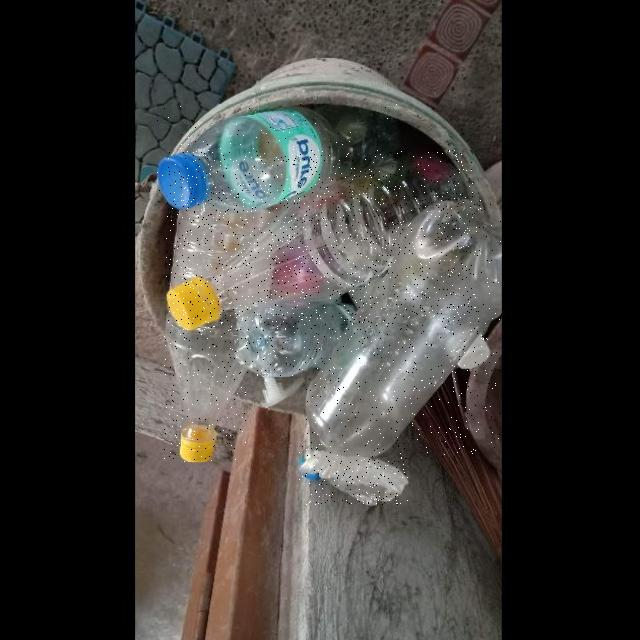plastic: (166, 150, 473, 330), (305, 198, 501, 456), (158, 104, 397, 212), (165, 310, 246, 462), (235, 301, 357, 377), (170, 202, 279, 287), (299, 446, 408, 505)
